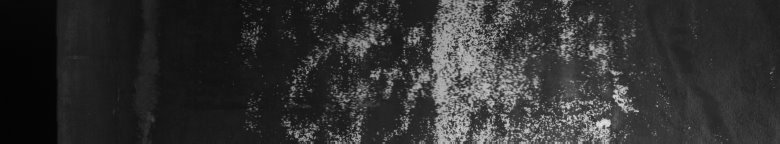kb: (292, 4, 671, 136)
